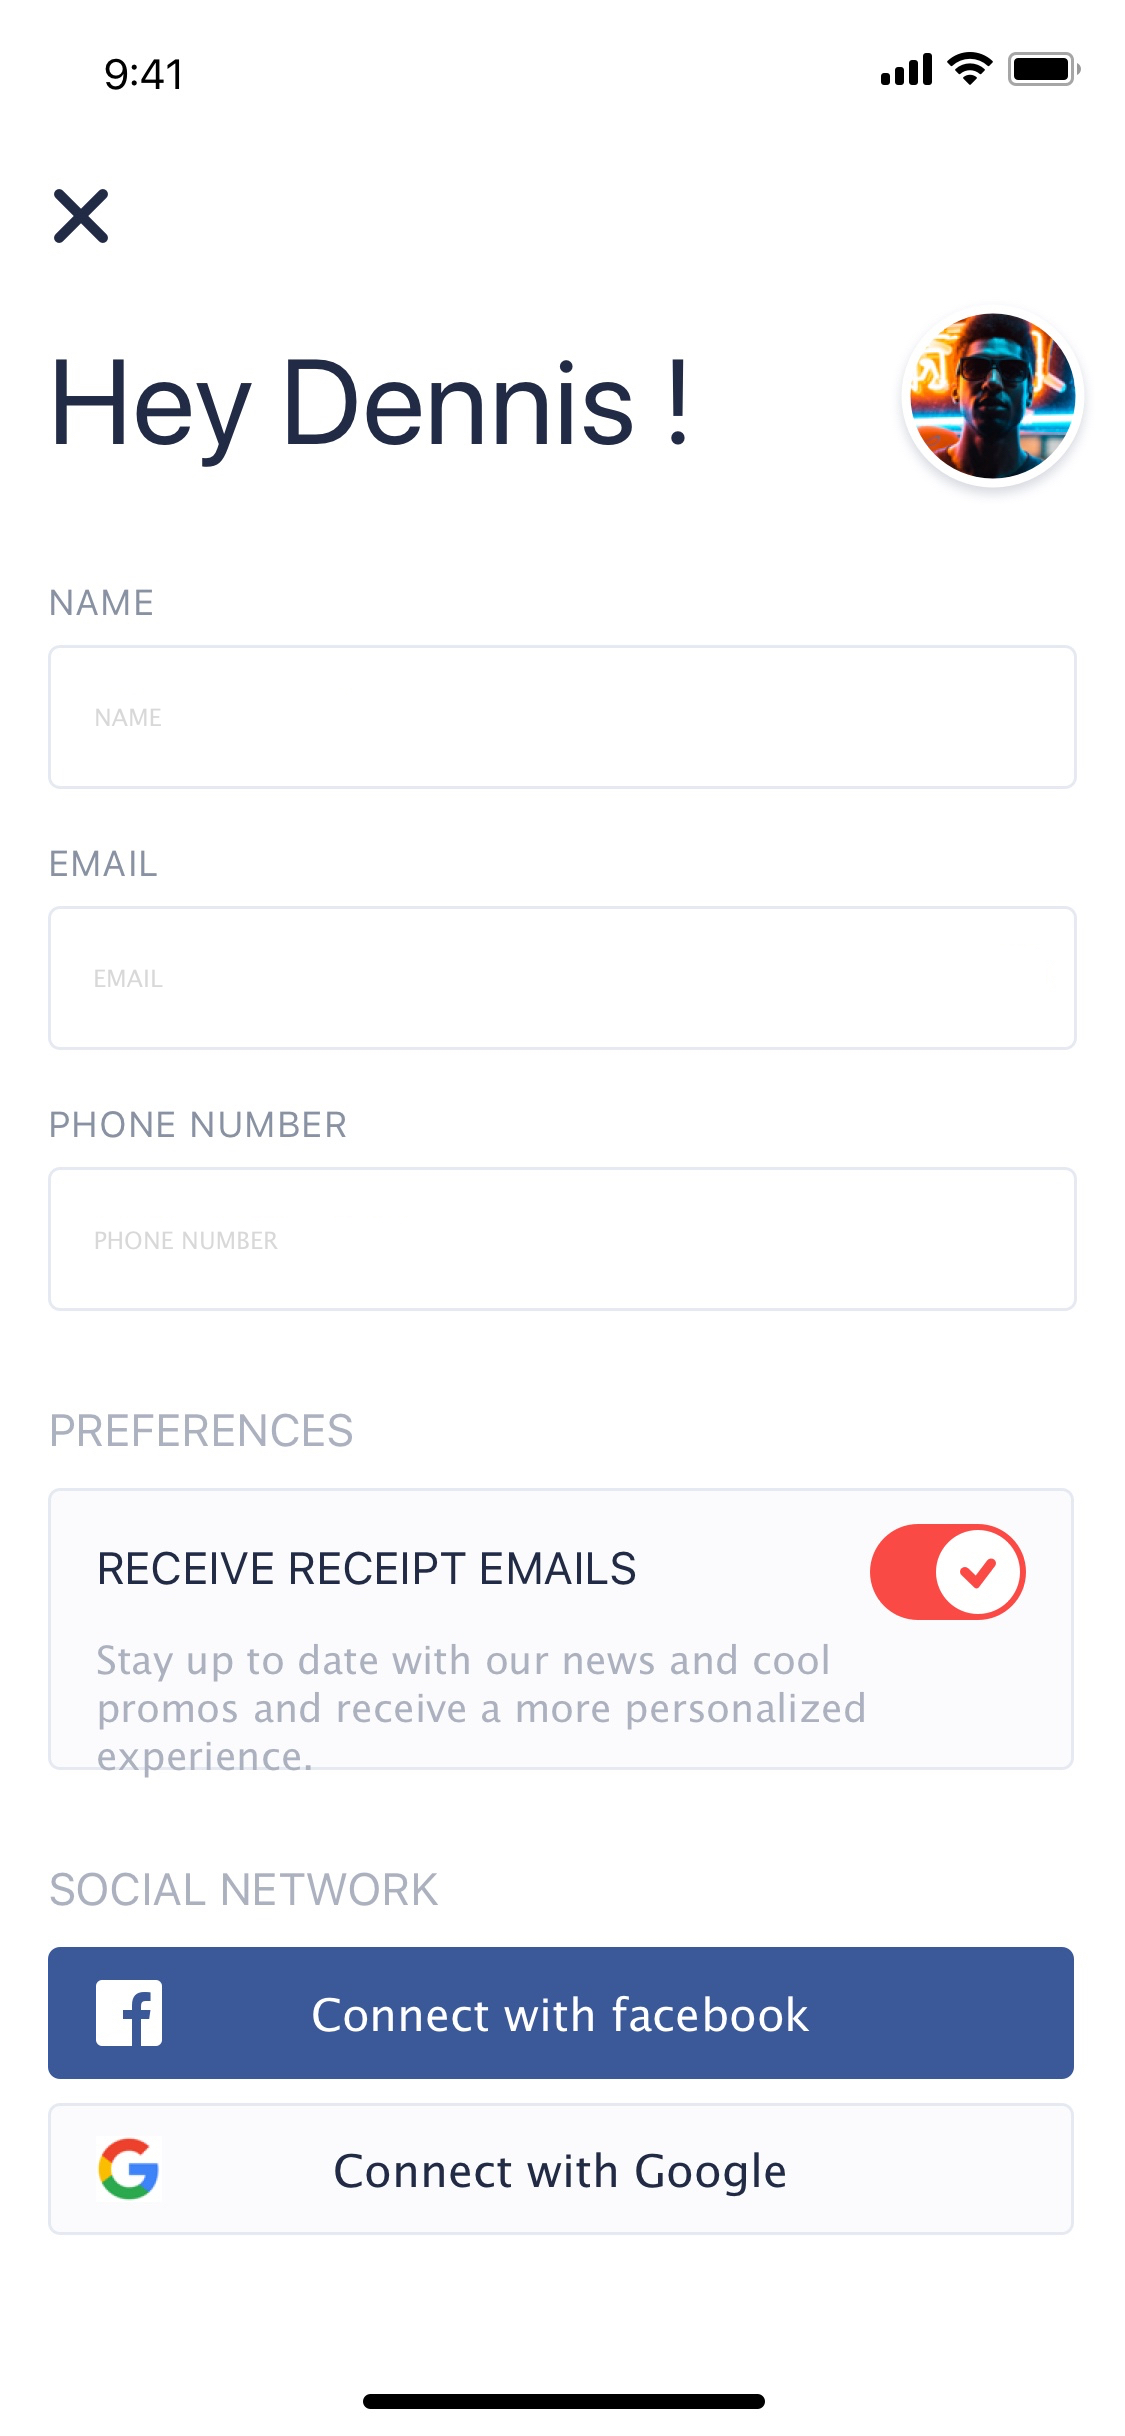EditText: (48, 906, 1078, 1052), (48, 645, 1078, 791), (48, 1167, 1077, 1313)
Icon: (54, 188, 110, 245)
Image: (901, 304, 1085, 489)
Switch: (870, 1524, 1027, 1620)
Text: (98, 1644, 866, 1777), (56, 357, 687, 469), (99, 1550, 637, 1586), (50, 1872, 440, 1906), (51, 1414, 354, 1448), (51, 1109, 347, 1139), (96, 1230, 280, 1251), (51, 850, 158, 878), (51, 589, 154, 617), (96, 707, 162, 729), (96, 969, 165, 990)
TextButton: (48, 1947, 1075, 2080), (48, 2102, 1075, 2236)
UpperTaskBar: (106, 51, 1081, 92)
